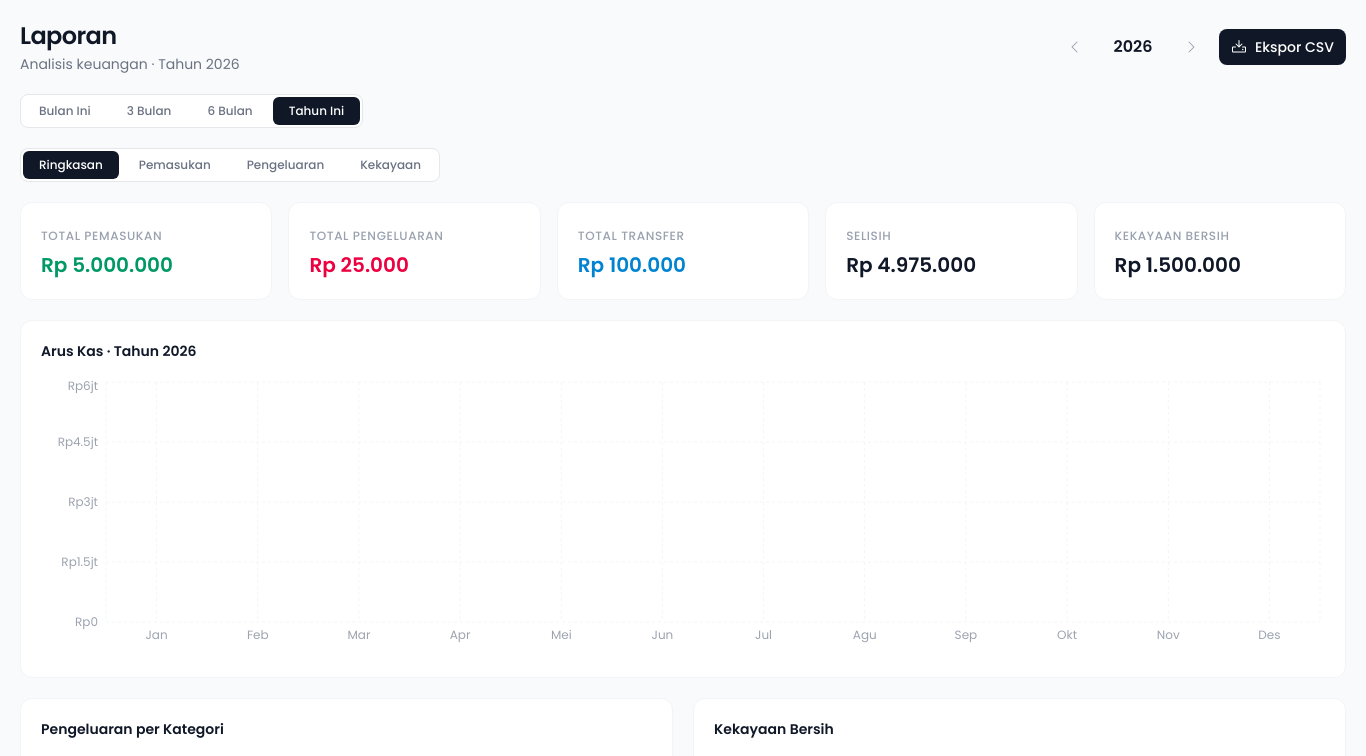
Test: Reports › preset non-tahun menyembunyikan navigasi tahun
Check: the text "2026" is shown, box [1114,35,1152,58]
Click the button "Bulan Ini".
click(65, 111)  # box [23,97,107,125]
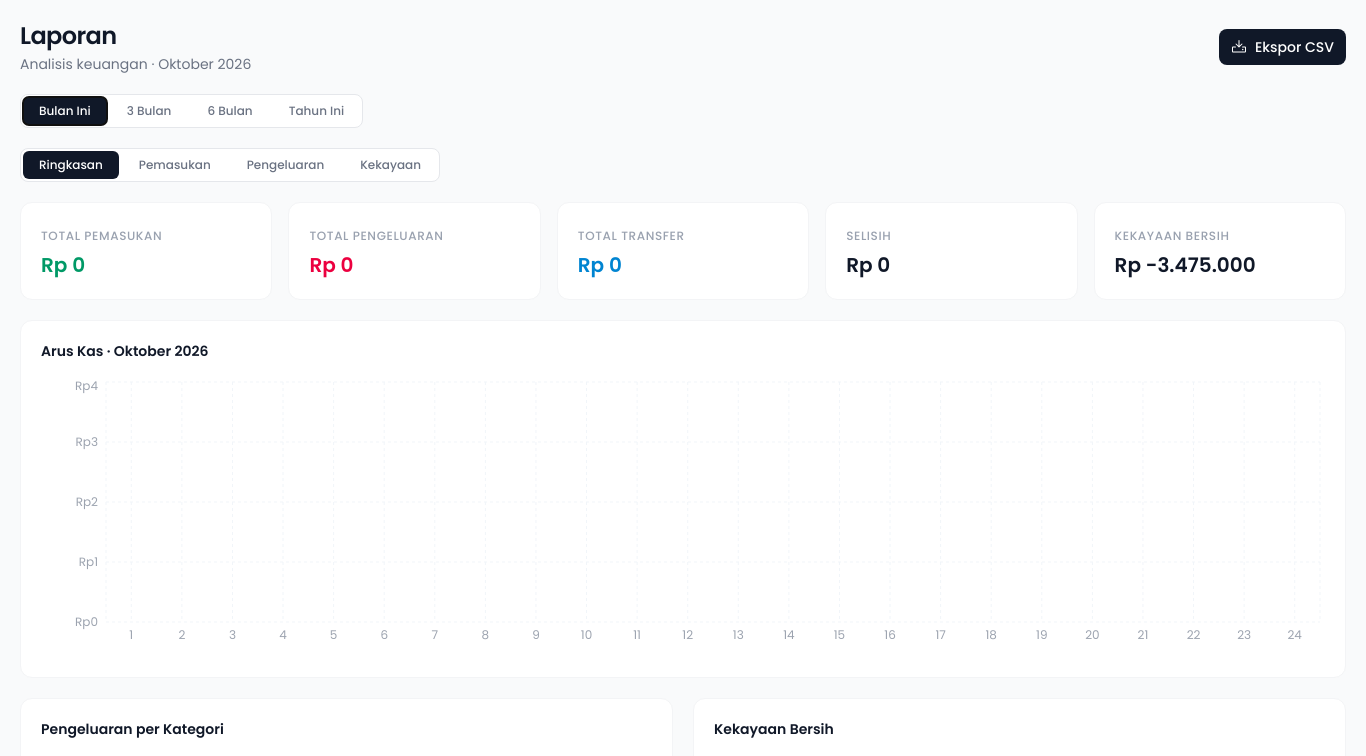
Click the button "Tahun Ini".
click(316, 111)  # box [273,97,360,125]
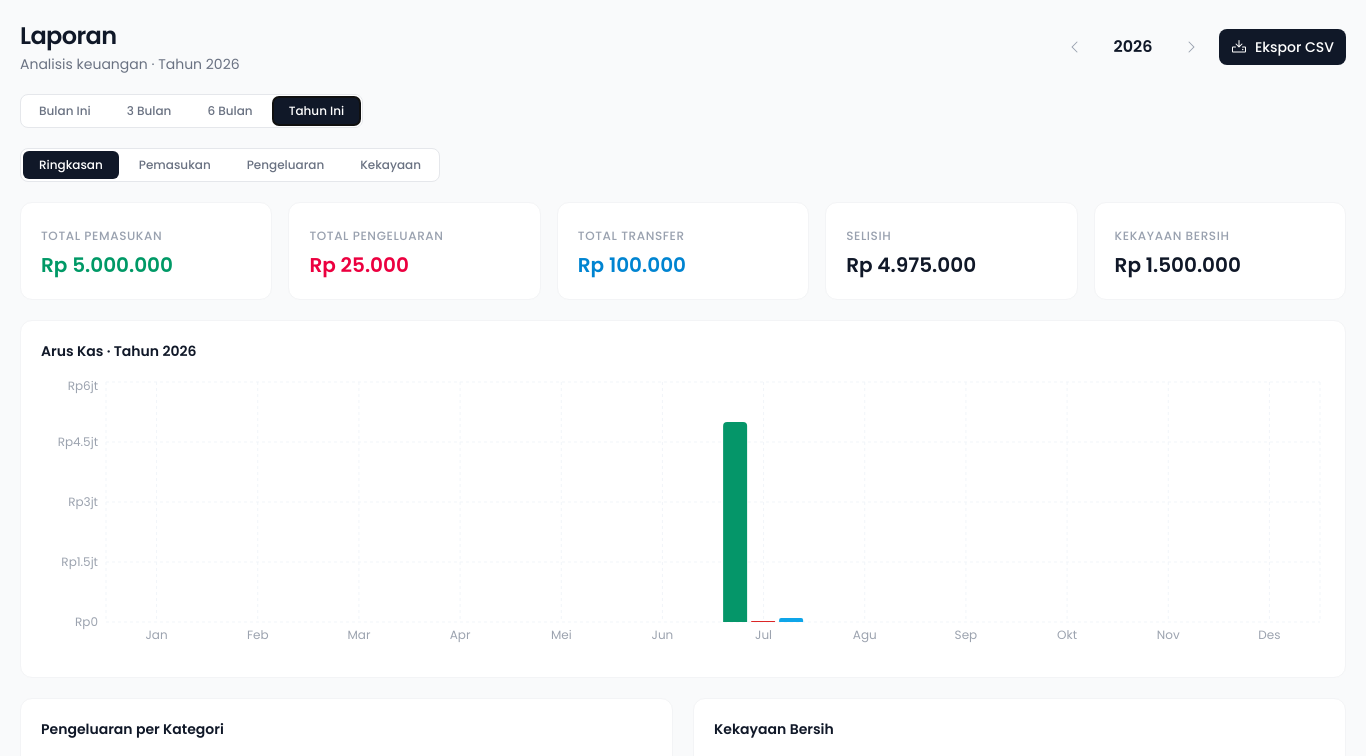
Check: the text "2026" is shown, box [1114,35,1152,58]
